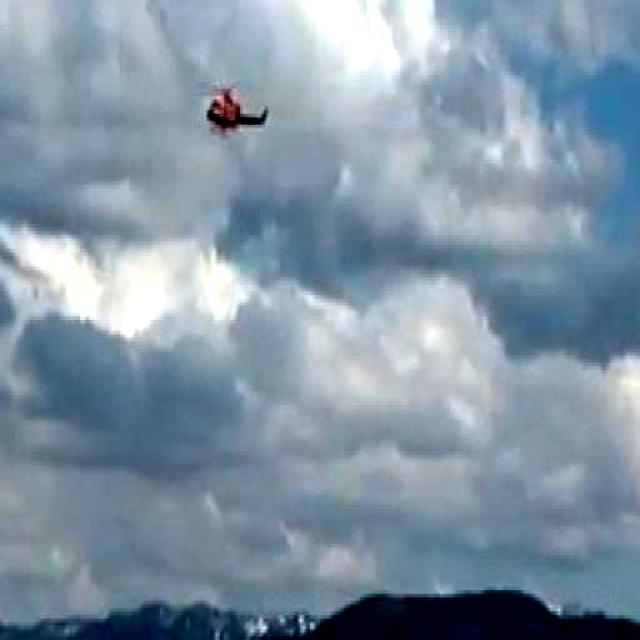drone: (202, 81, 271, 149)
